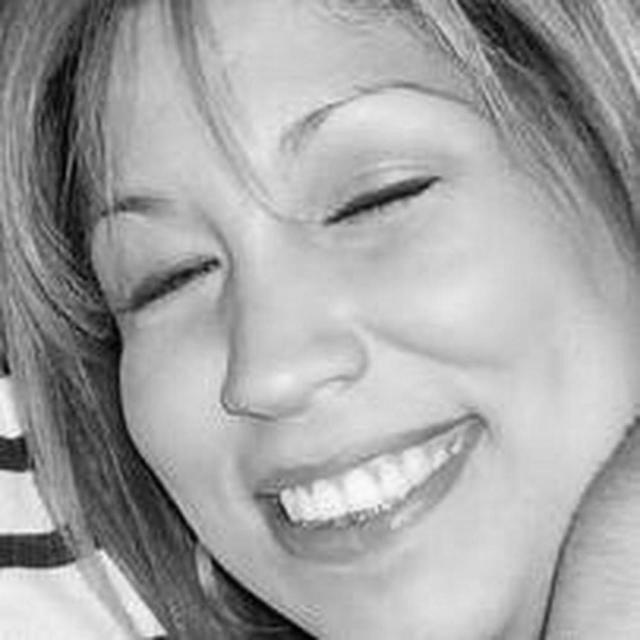real: (86, 2, 640, 637), (120, 134, 464, 333)
